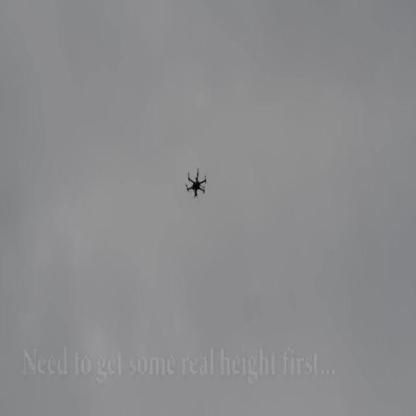drone: (183, 167, 207, 200)
